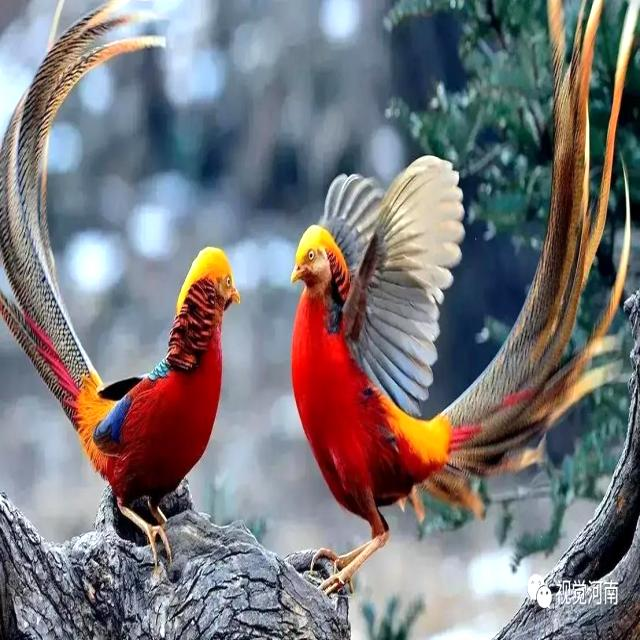Chrysolophus pictus feather: (421, 0, 640, 520), (0, 0, 166, 425)
